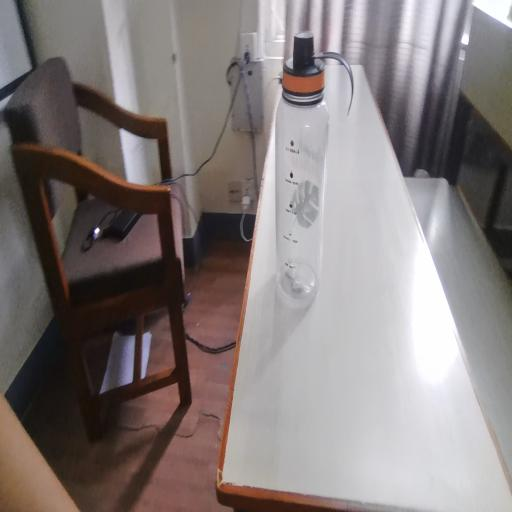Bottle: (271, 35, 335, 312)
